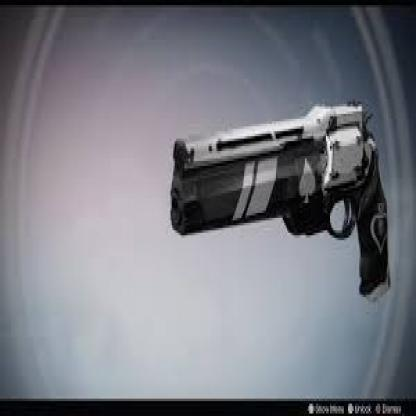Pistol: (164, 87, 392, 332)
